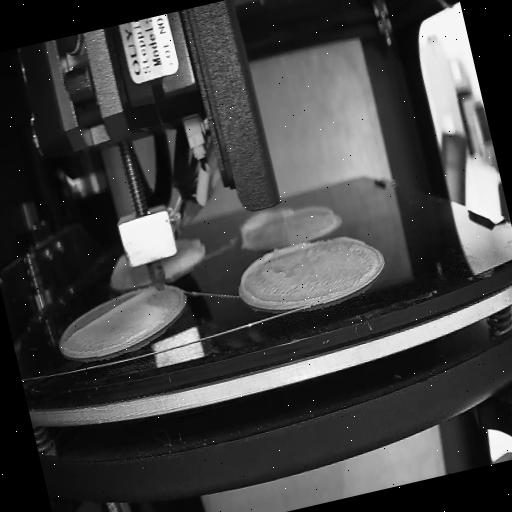over_extrusion: (234, 242, 320, 318), (58, 286, 162, 342), (234, 204, 297, 244), (329, 229, 366, 254), (296, 200, 332, 222)
